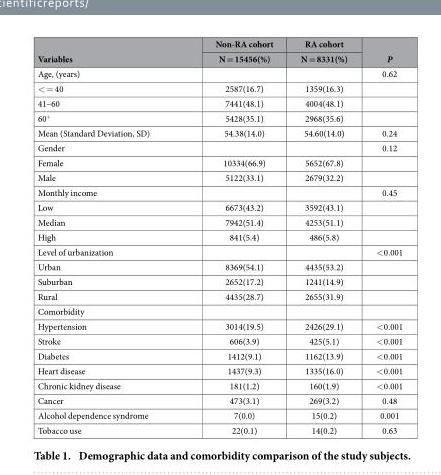table: (36, 37, 402, 435)
table column: (36, 37, 181, 435), (181, 37, 286, 435), (286, 37, 361, 435), (361, 37, 402, 435)
table column header: (36, 37, 402, 65)
table projected row header: (36, 303, 402, 318)
table row: (36, 50, 402, 65), (36, 65, 402, 80), (36, 80, 402, 95), (36, 95, 402, 110), (36, 110, 402, 125), (36, 125, 402, 140), (36, 154, 402, 169), (36, 169, 402, 184), (36, 184, 402, 199), (36, 199, 402, 214), (36, 214, 402, 229), (36, 229, 402, 244), (36, 244, 402, 259), (36, 273, 402, 288), (36, 288, 402, 303), (36, 303, 402, 318), (36, 318, 402, 333), (36, 333, 402, 348), (36, 348, 402, 363), (36, 377, 402, 392), (36, 392, 402, 407), (36, 407, 402, 422), (36, 140, 402, 154), (36, 259, 402, 273), (36, 363, 402, 377), (36, 37, 402, 50), (36, 422, 402, 435)
table spanning cell: (36, 37, 181, 65), (181, 37, 286, 65), (286, 37, 361, 65), (361, 37, 402, 65)
